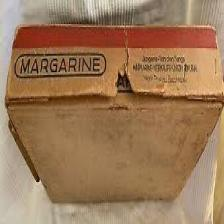cardboard: (6, 4, 224, 224)
